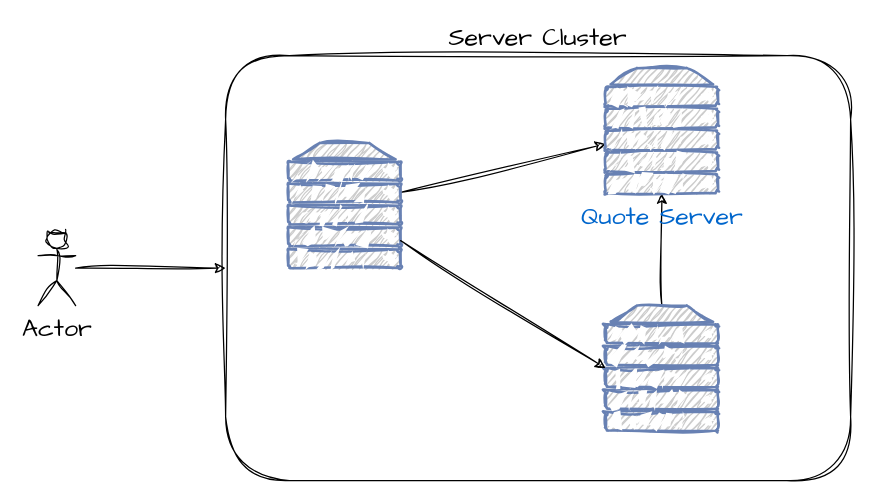
Image size: 873x503. Some labels were removed from this diagram. Each missing label, with the centre of its shape:
"Auth Server" belongs at pixel 661 367.
"Frontend Server" belongs at pixel 343 205.
